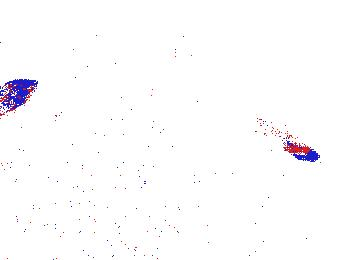X-ray fish: (1, 78, 36, 119)
red belly glassfish: (257, 118, 320, 161)
